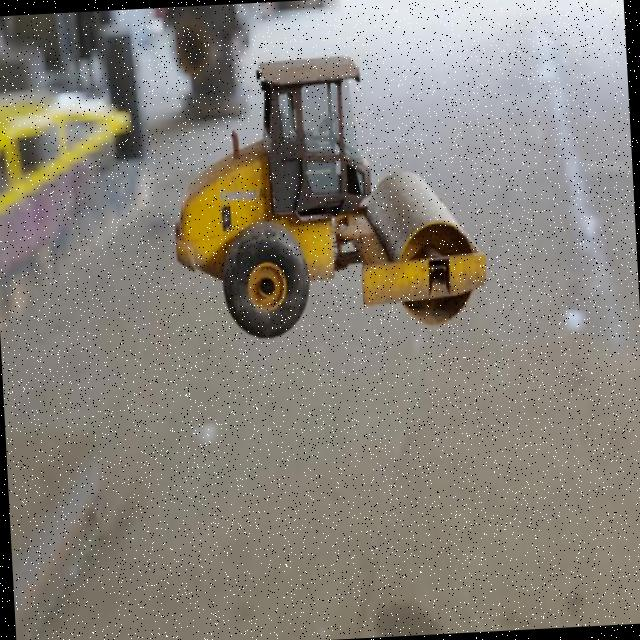Roller: (164, 48, 488, 344)
